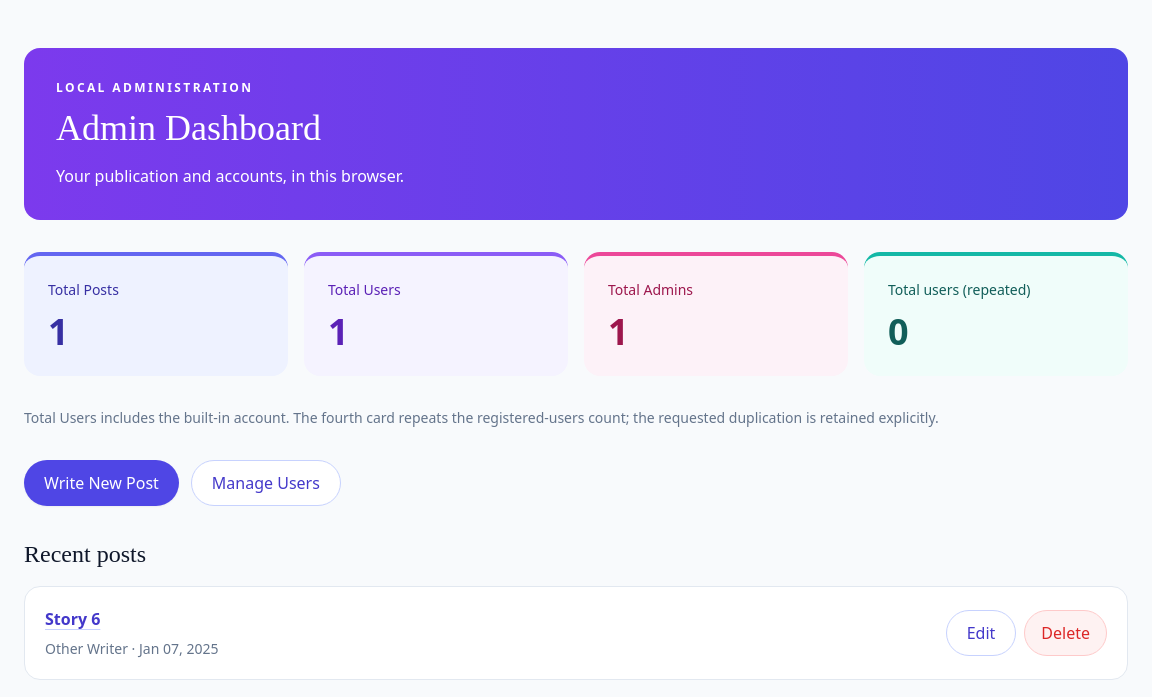
Scenario: AdminDashboard › reports deletion quota explicitly with no success
The image size is (1152, 697).
Click the button with aria-label "Delete Story 6" at (1066, 633), box [1024,610,1107,656]
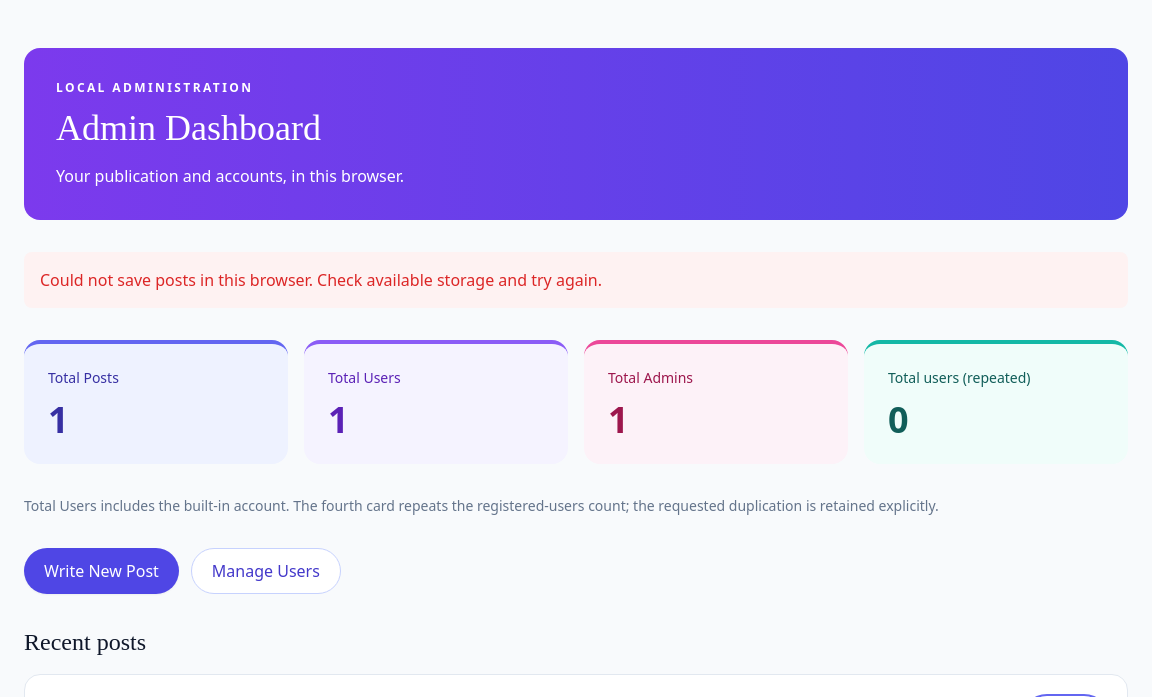
expect the message shows "Could not save posts": met, box [40,269,602,291]
